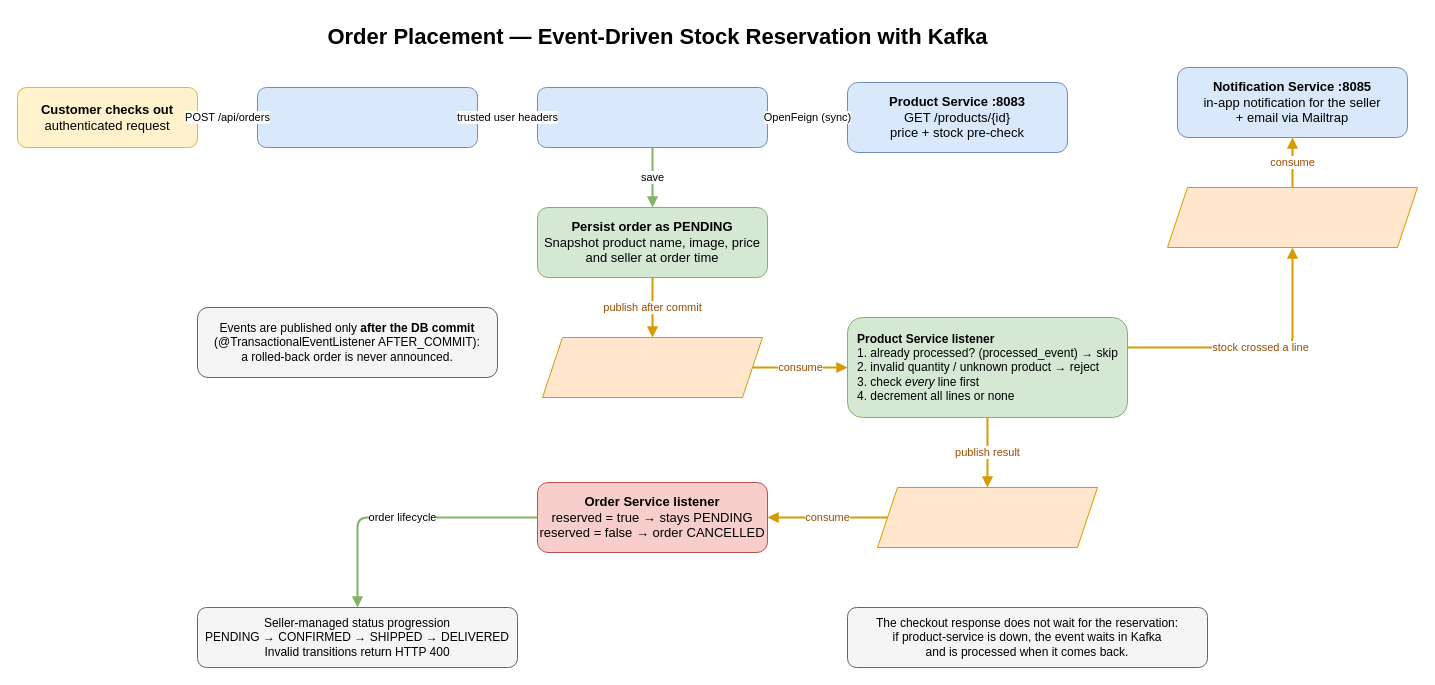
The diagram is 1435 pixels wide and 685 high, and some of its shapes have lost their labels. The shapes that lost their labels are listed below. From the top down, each one's centre as x and y in pixels, then its label:
At [367,117]: "API Gateway :8080 JWT validated + identity headers".
At [652,117]: "Order Service :8084 Validate request, build order".
At [1292,217]: "Kafka · stock-low / stock-depleted key = productId · only when a line is crossed".
At [652,367]: "Kafka · order-created key = orderId".
At [987,517]: "Kafka · stock-result reserved true/false + reason".
